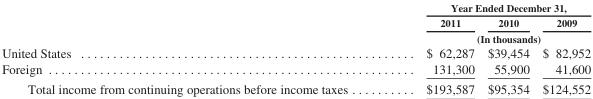table: (1, 1, 590, 96)
table column: (1, 1, 386, 96), (386, 1, 480, 96), (480, 1, 535, 96), (535, 1, 590, 96)
table column header: (1, 1, 590, 44)
table row: (1, 60, 590, 78), (1, 78, 590, 96), (1, 14, 590, 30), (1, 44, 590, 60), (1, 30, 590, 44), (1, 1, 590, 14)
table spanning cell: (386, 30, 590, 44), (386, 1, 590, 14)
